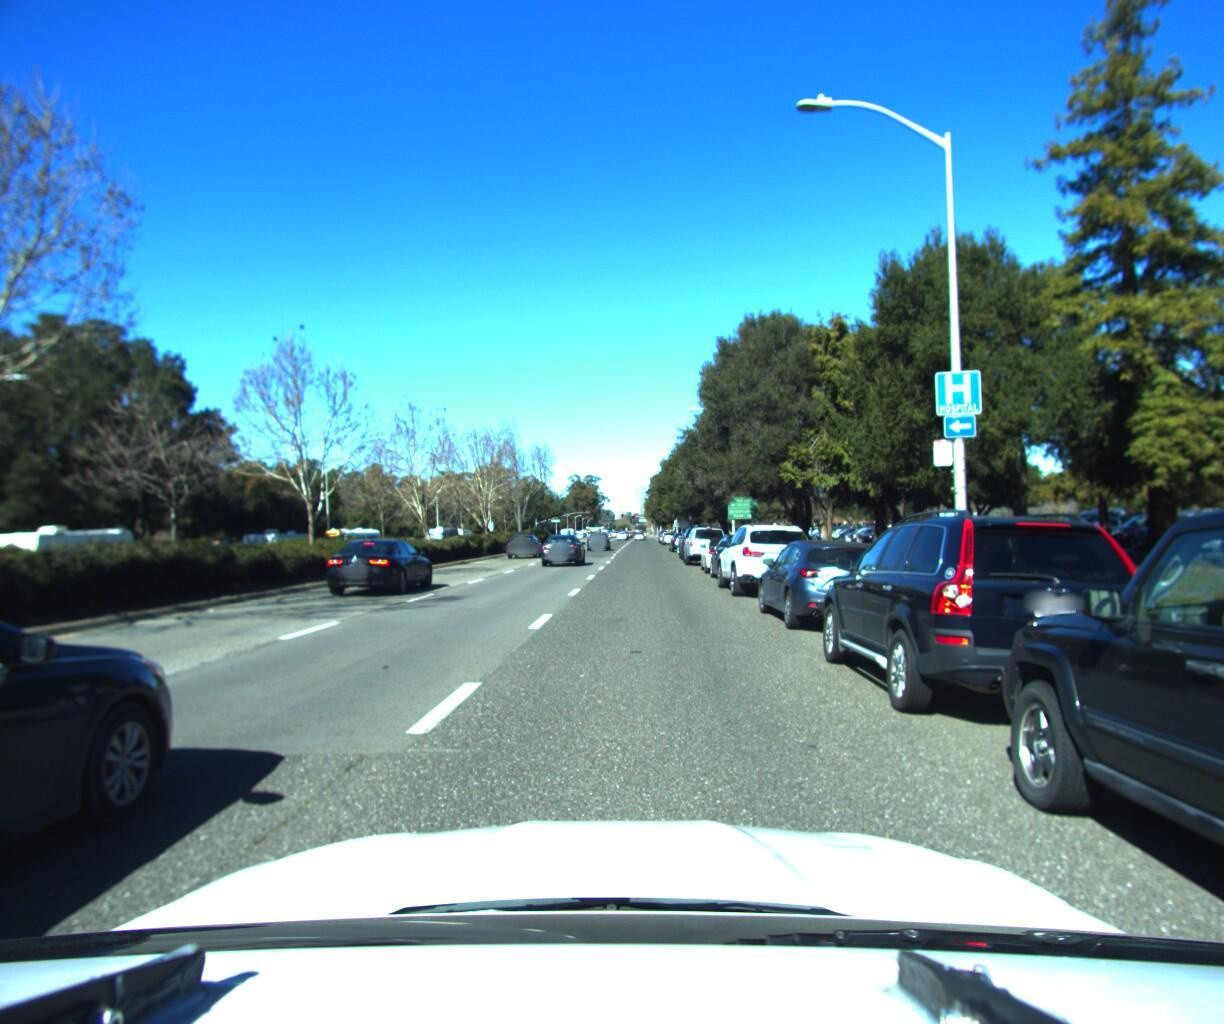bus: (308, 523, 384, 567)
car: (956, 202, 1224, 1024), (0, 548, 208, 1024), (803, 495, 1179, 748), (745, 528, 911, 634), (711, 518, 822, 601), (321, 536, 441, 601), (705, 528, 779, 584), (695, 532, 753, 574), (680, 521, 732, 566), (538, 529, 583, 564), (504, 533, 546, 560), (666, 529, 695, 552), (584, 529, 610, 549)
other_vehicle: (0, 527, 142, 610), (236, 529, 315, 576)
